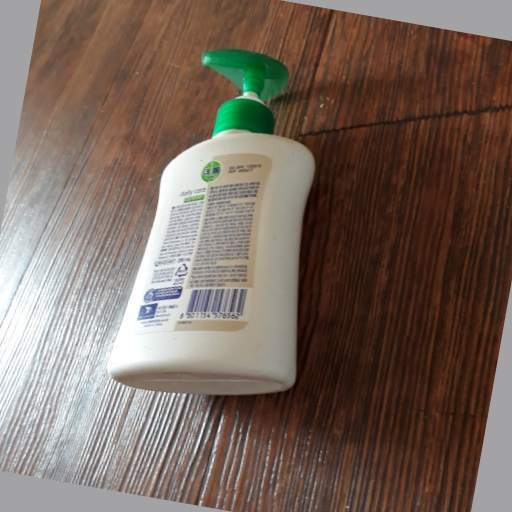Plastic_3: (111, 44, 317, 397)
